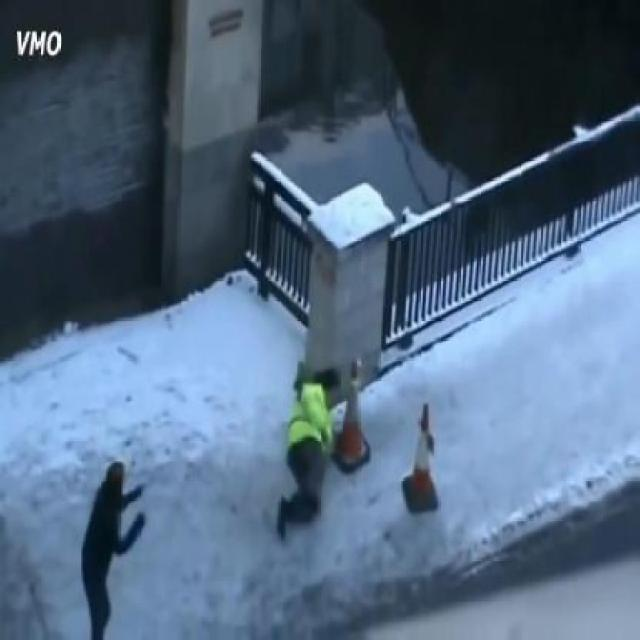fall: (277, 357, 345, 537)
